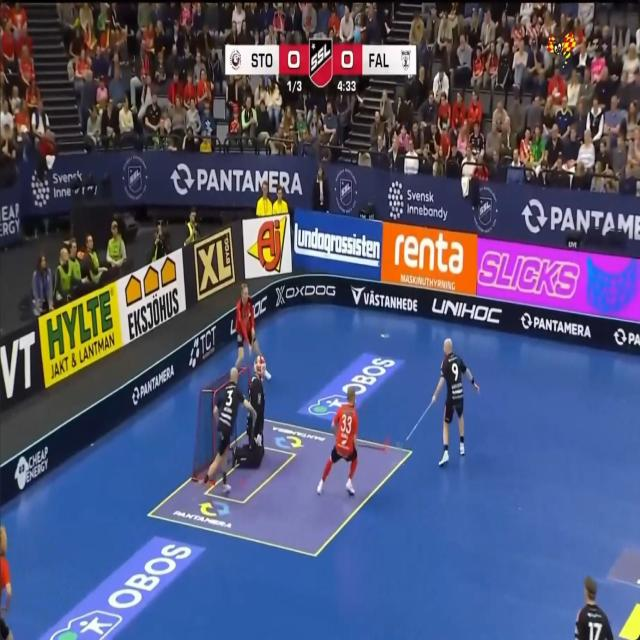player: (431, 338, 479, 465), (204, 367, 256, 482), (317, 387, 358, 494), (234, 355, 265, 468), (574, 577, 613, 639), (236, 282, 260, 368), (222, 472, 230, 493), (264, 368, 270, 379)
stick: (405, 400, 433, 441), (356, 439, 388, 450), (360, 411, 362, 414), (359, 411, 360, 413)
